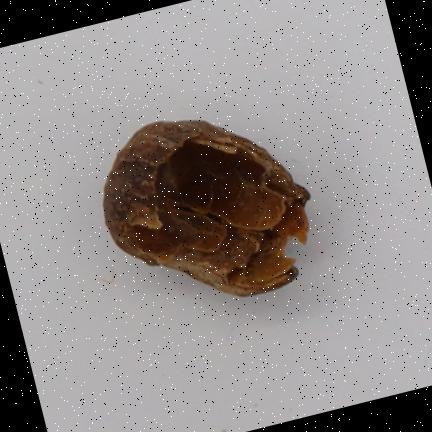husk: (103, 120, 310, 295)
